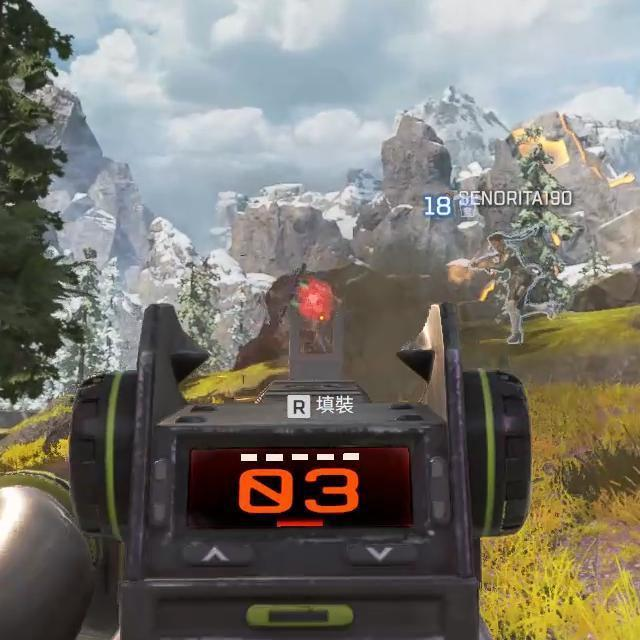avatar: (486, 231, 541, 347)
